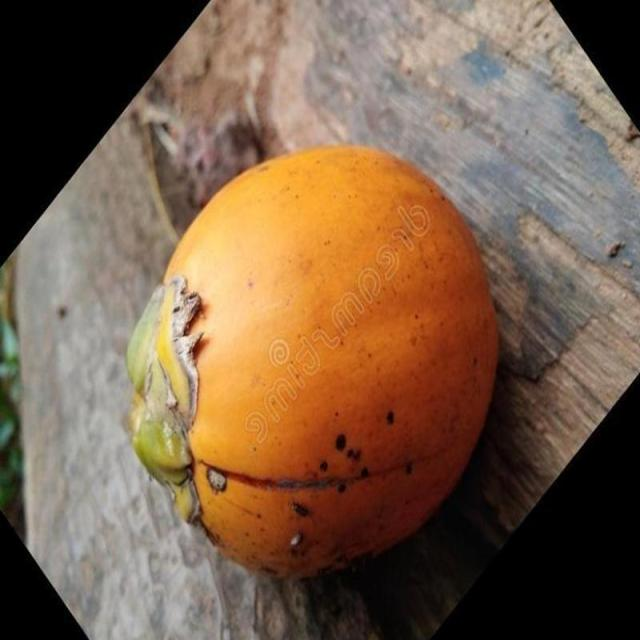good: (126, 145, 501, 582)
